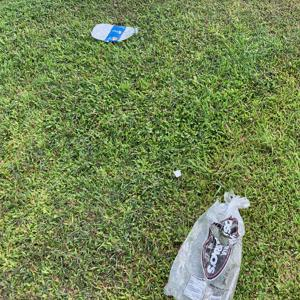plastic: (172, 184, 255, 300)
plastic bottle: (85, 20, 141, 54)
